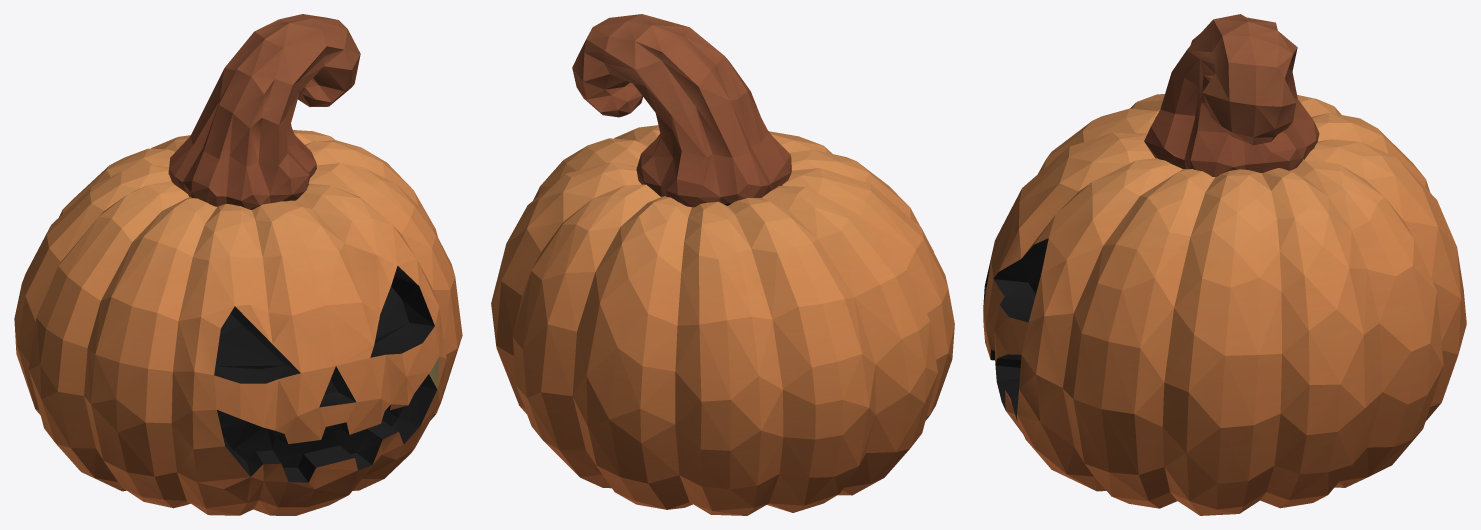
Rendered from EVHalloween_Decor_JackOLanternGrin.fbx.
3 views of the same model, side by side, from view 1: azimuth 30°, elevation 25°; view 2: azimuth 150°, elevation 25°; view 3: azimuth 270°, elevation 25° (orthographic). The views are drawn at different scales.
Visible parts, largest first — view 1: EVHalloween_Decor_PumpkinOrange; view 2: EVHalloween_Decor_PumpkinOrange; view 3: EVHalloween_Decor_PumpkinOrange.
Boxes of the visible parts, x1,y1,x2,y2 form: EVHalloween_Decor_PumpkinOrange: (14, 14, 462, 515); EVHalloween_Decor_PumpkinOrange: (491, 14, 954, 515); EVHalloween_Decor_PumpkinOrange: (983, 14, 1466, 515).
Bounding box in the file's own units: 33.2 × 34.04 × 31.41.
